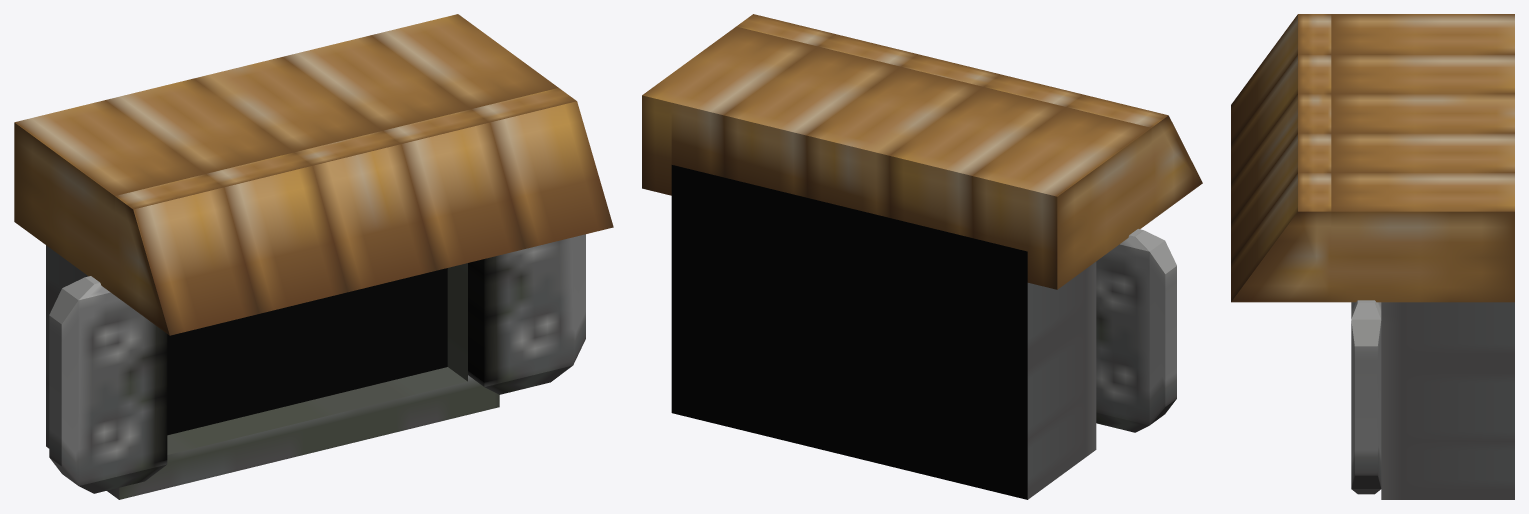
The model's file is Poly_Small_Window_06.obj.
3 renders of one model, left to right at view 1: azimuth 30°, elevation 25°; view 2: azimuth 150°, elevation 25°; view 3: azimuth 270°, elevation 25°, orthographic. The views are drawn at different scales.
Parts seen in each view (by area): view 1: Cube.001_Cube.002, Cube_Cube.001, Cube; view 2: Cube_Cube.001, Cube.001_Cube.002, Cube; view 3: Cube.001_Cube.002, Cube_Cube.001, Cube.
Part boxes in pixels (box(x1,y1,x2,y2)): Cube.001_Cube.002: box(14, 14, 613, 335); Cube_Cube.001: box(46, 245, 499, 499); Cube: box(49, 234, 585, 493); Cube_Cube.001: box(671, 165, 1096, 499); Cube.001_Cube.002: box(642, 14, 1202, 289); Cube: box(1096, 229, 1176, 432); Cube.001_Cube.002: box(1231, 14, 1514, 302); Cube_Cube.001: box(1381, 302, 1514, 499); Cube: box(1351, 300, 1381, 494).
Bounding box in the file's own units: 1.24 × 0.75 × 0.6375.
Materials: 1 (1 with a texture image).
